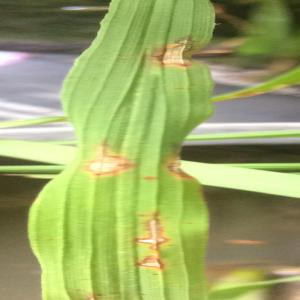Rice_Blast: (136, 24, 221, 82), (74, 133, 143, 189), (127, 202, 180, 274), (160, 139, 204, 194)
